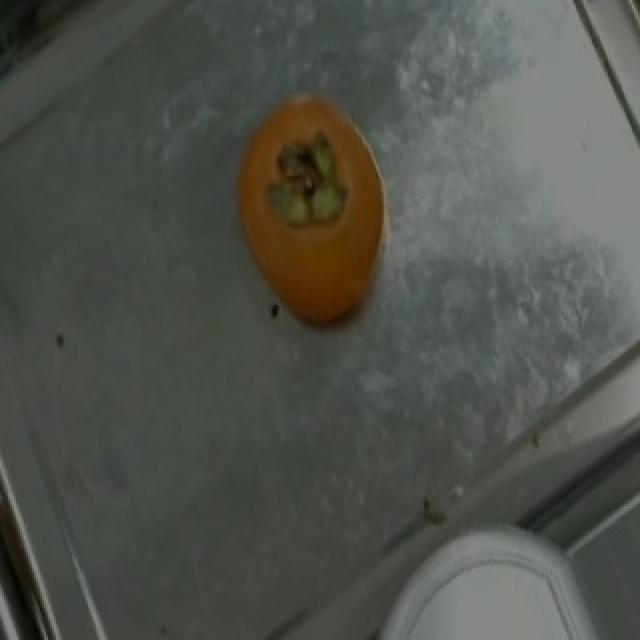Fruit: (208, 77, 414, 347), (386, 545, 586, 640)
